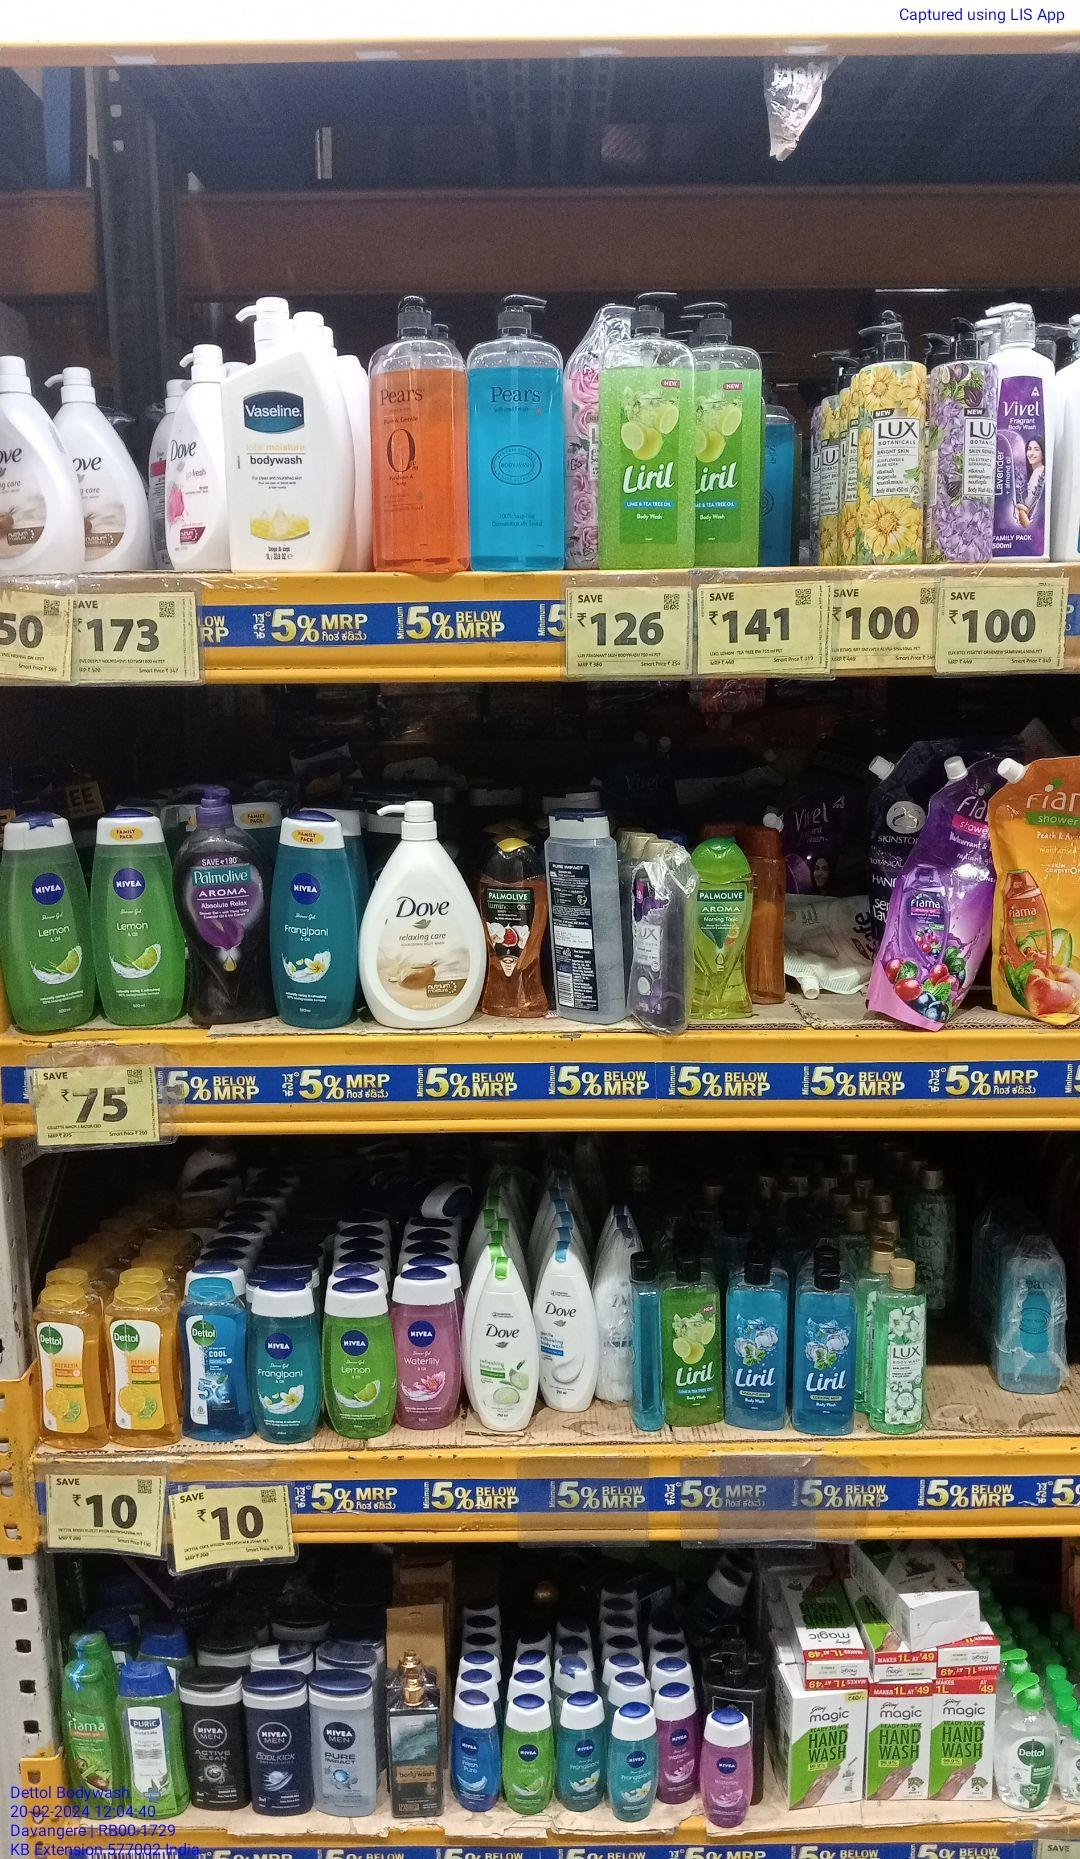Dettol_Bodywash_Cool: (184, 1279, 252, 1441)
Dettol_Bodywash_Refresh: (108, 1282, 179, 1448), (37, 1283, 107, 1450)
Dove_Gentle_Exfoliating_Body_Wash_250ML: (540, 1242, 599, 1412)
Dove_Refreshing_Body_Wash_250ML: (468, 1257, 535, 1431)
Fiama_Shower_Gel_Lemongrass_and_Jojoba_250ML: (59, 1660, 123, 1820)
Liril_Cooling_Mint_Body_Wash_250ML: (793, 1260, 858, 1436), (729, 1251, 789, 1430)
Liril_Lime_and_Tea_Tree_Oil_Body_Wash_250ML: (661, 1242, 723, 1424)
Lux_Body_Wash_Skin_Detox_Freesia_Scent_and_Alove_Vera_245ML: (873, 1260, 926, 1433)
Nivea_Shower_Gel_Frangipani_and_Oil_250ML: (267, 813, 359, 1030), (255, 1278, 321, 1445)
Nivea_Shower_Gel_Lemon_and_Oil_250ML: (6, 813, 93, 1034), (99, 814, 180, 1022), (325, 1279, 397, 1440)
Nivea_Shower_Gel_Waterlily_and_Oil_250ML: (404, 1273, 459, 1436)
Palmolive_Aroma_Morning_Tonic_Shower_Gel_250ML: (693, 837, 752, 1022)
Palmolive_Luminous_Oils_With_White_Orchid_Shower_Gel_250ML: (485, 834, 546, 1014)
